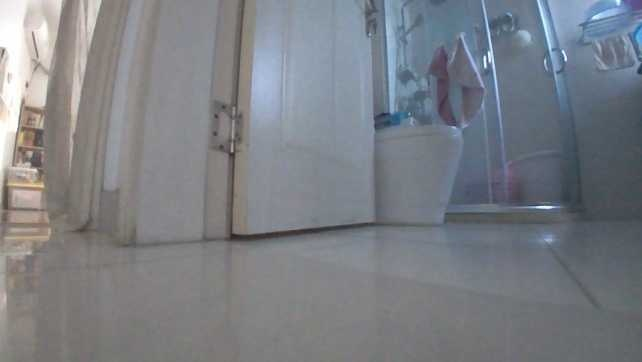door_anno: (115, 0, 382, 247)
toilet: (373, 121, 467, 225)
